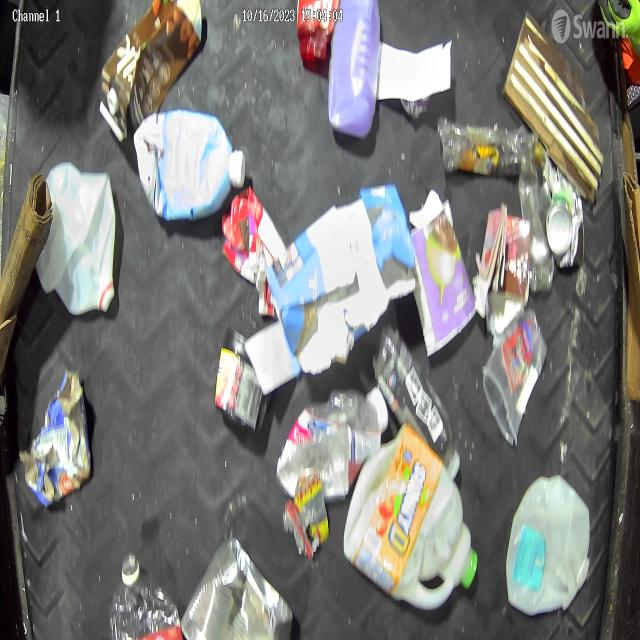can: (181, 533, 292, 640), (214, 326, 266, 432), (546, 193, 572, 258)
milk_jug: (343, 422, 479, 611), (36, 164, 116, 316), (506, 474, 591, 615)
non_white_jug: (266, 183, 419, 374), (99, 0, 202, 143), (134, 110, 248, 220), (220, 187, 287, 317), (327, 0, 381, 141)
plastic_bottle: (277, 385, 389, 500), (439, 116, 543, 177), (108, 552, 180, 640), (515, 148, 555, 294)
